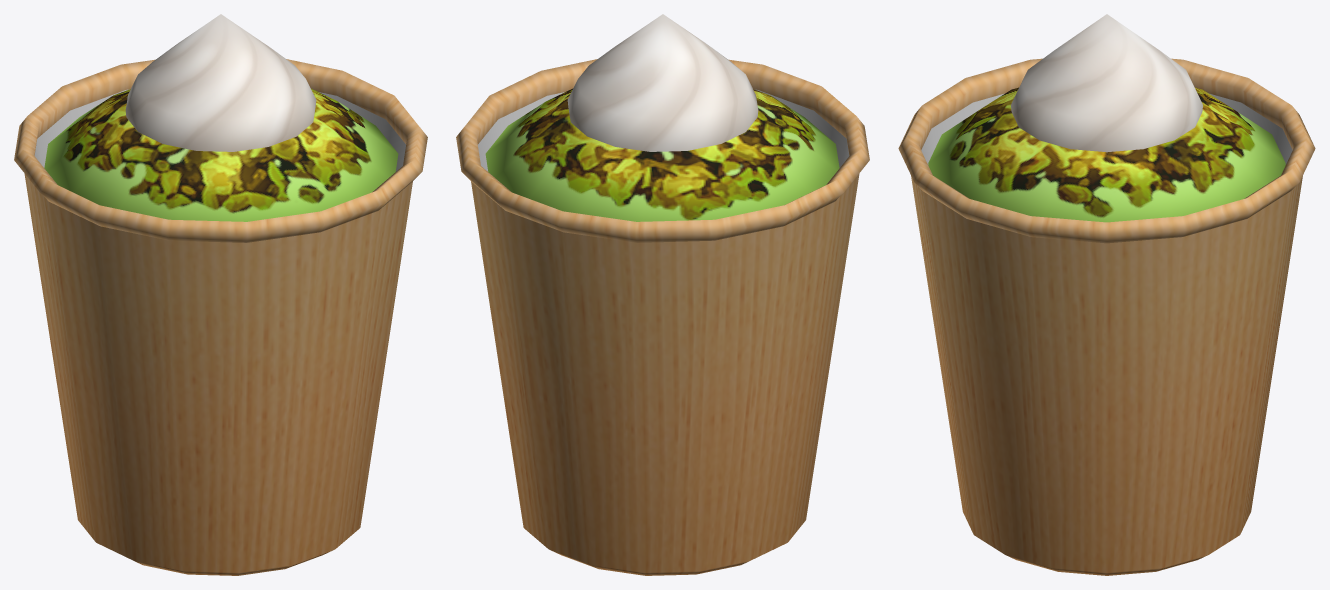
Rendered from 011-Parfait_06.FBX.
3 renders of one model, left to right at view 1: azimuth 30°, elevation 25°; view 2: azimuth 150°, elevation 25°; view 3: azimuth 270°, elevation 25°, orthographic.
Parts seen in each view (by area): view 1: 011-Parfait_06-2, 011-Parfait_06-1; view 2: 011-Parfait_06-2, 011-Parfait_06-1; view 3: 011-Parfait_06-2, 011-Parfait_06-1.
Boxes of the visible parts, x1,y1,x2,y2 form: 011-Parfait_06-2: (14,59,427,575); 011-Parfait_06-1: (44,14,398,221); 011-Parfait_06-2: (456,59,869,575); 011-Parfait_06-1: (485,14,839,221); 011-Parfait_06-2: (898,58,1315,575); 011-Parfait_06-1: (928,14,1285,222).
Size of the model in its own units: 14.13 by 18.97 by 14.13.
